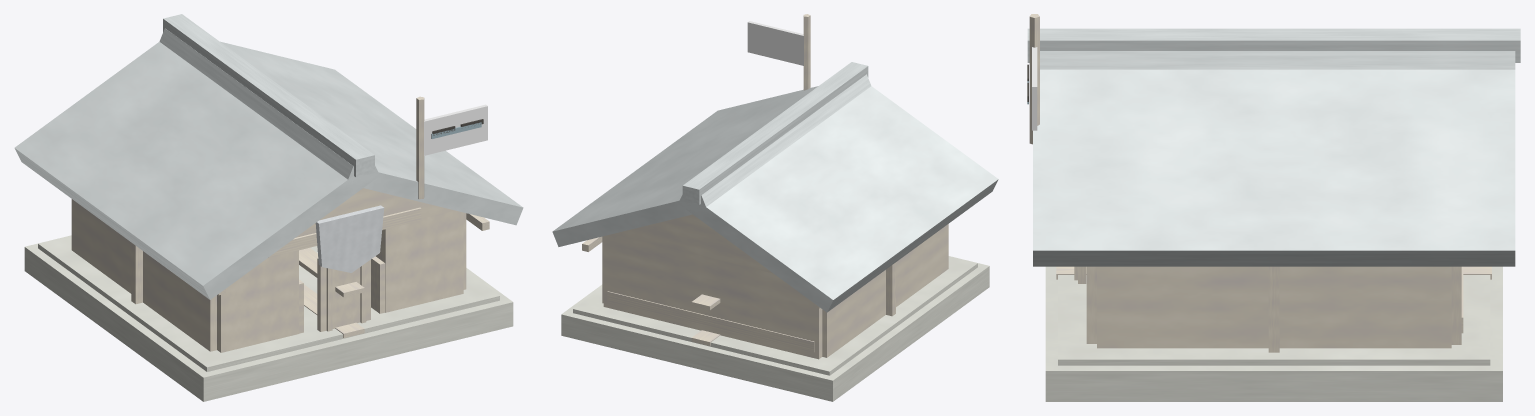
Rendered from barracks.glb.
3 views of the same model, side by side, from view 1: azimuth 30°, elevation 25°; view 2: azimuth 150°, elevation 25°; view 3: azimuth 270°, elevation 25° (orthographic). The views are drawn at different scales.
Visible parts, largest first — view 1: barracks.complete.gabledRoof, barracks.foundation, barracks.complete.wallShell, barracks.complete.neutralTrim, barracks.site.partialFrame, barracks.complete.gate, barracks.standard.azure, barracks.complete.bannerPole, barracks.standard.ember; view 2: barracks.complete.gabledRoof, barracks.complete.wallShell, barracks.foundation, barracks.standard.azure, barracks.site.partialFrame, barracks.complete.bannerPole; view 3: barracks.complete.gabledRoof, barracks.foundation, barracks.complete.wallShell, barracks.site.partialFrame, barracks.complete.bannerPole, barracks.standard.azure.
Part boxes in pixels (x1,y1,x2,y2): barracks.complete.gabledRoof: (14, 14, 523, 299); barracks.foundation: (24, 235, 513, 401); barracks.complete.wallShell: (71, 188, 466, 352); barracks.complete.neutralTrim: (315, 205, 384, 272); barracks.site.partialFrame: (131, 213, 489, 337); barracks.complete.gate: (317, 258, 370, 331); barracks.standard.azure: (424, 104, 487, 155); barracks.complete.bannerPole: (416, 96, 424, 199); barracks.standard.ember: (424, 106, 486, 154); barracks.complete.gabledRoof: (552, 62, 998, 312); barracks.complete.wallShell: (602, 214, 948, 359); barracks.foundation: (561, 256, 989, 401); barracks.standard.azure: (747, 21, 803, 65); barracks.site.partialFrame: (582, 236, 895, 345); barracks.complete.bannerPole: (803, 14, 810, 90); barracks.complete.gabledRoof: (1027, 28, 1520, 266); barracks.foundation: (1045, 266, 1502, 401); barracks.complete.wallShell: (1086, 266, 1463, 348); barracks.site.partialFrame: (1056, 266, 1491, 352); barracks.complete.bannerPole: (1029, 14, 1039, 144); barracks.standard.azure: (1027, 47, 1037, 130).
Size of the model in its own units: 3.04 by 2.31 by 3.17.
Materials: 2 (1 with a texture image).
